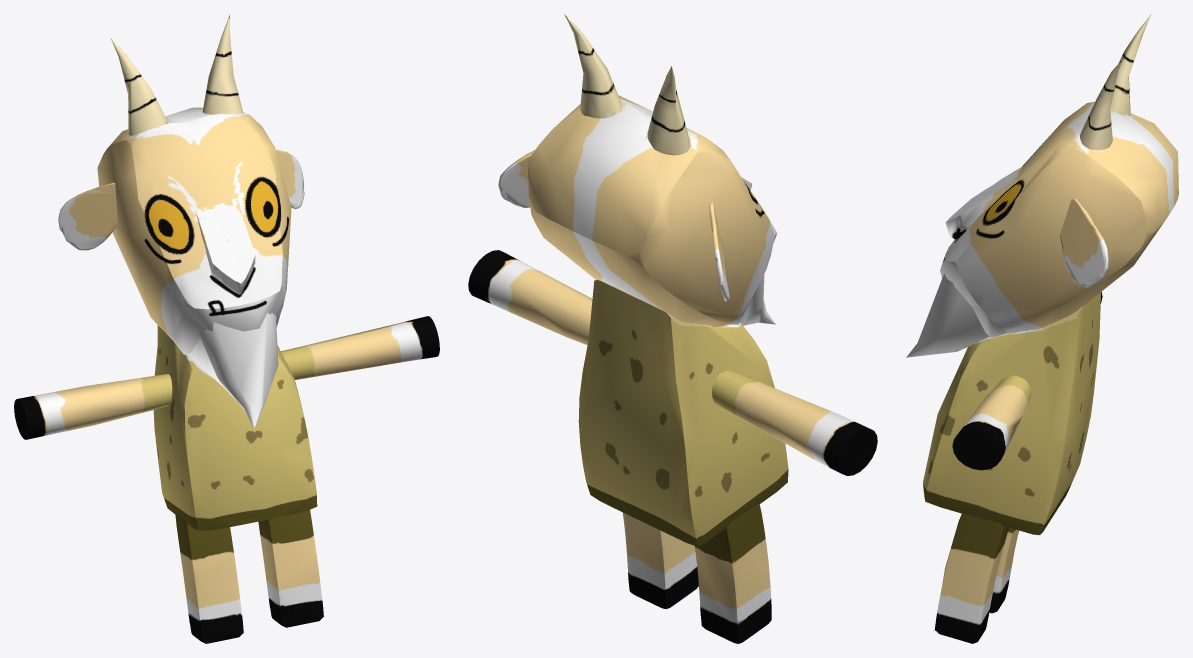
Rendered from cabra.fbx.
The picture shows the model from 3 angles, left to right: view 1: azimuth 30°, elevation 25°; view 2: azimuth 150°, elevation 25°; view 3: azimuth 270°, elevation 25°; orthographic projection. The views are drawn at different scales.
Visible parts, largest first — view 1: node_id4; view 2: node_id4; view 3: node_id4.
Part boxes in pixels (<box>): node_id4: <box>14,14,439,643</box>; node_id4: <box>468,14,877,643</box>; node_id4: <box>906,15,1178,643</box>.
Bounding box in the file's own units: 0.3504 × 0.5002 × 0.2102.
1 material, 1 textured.
